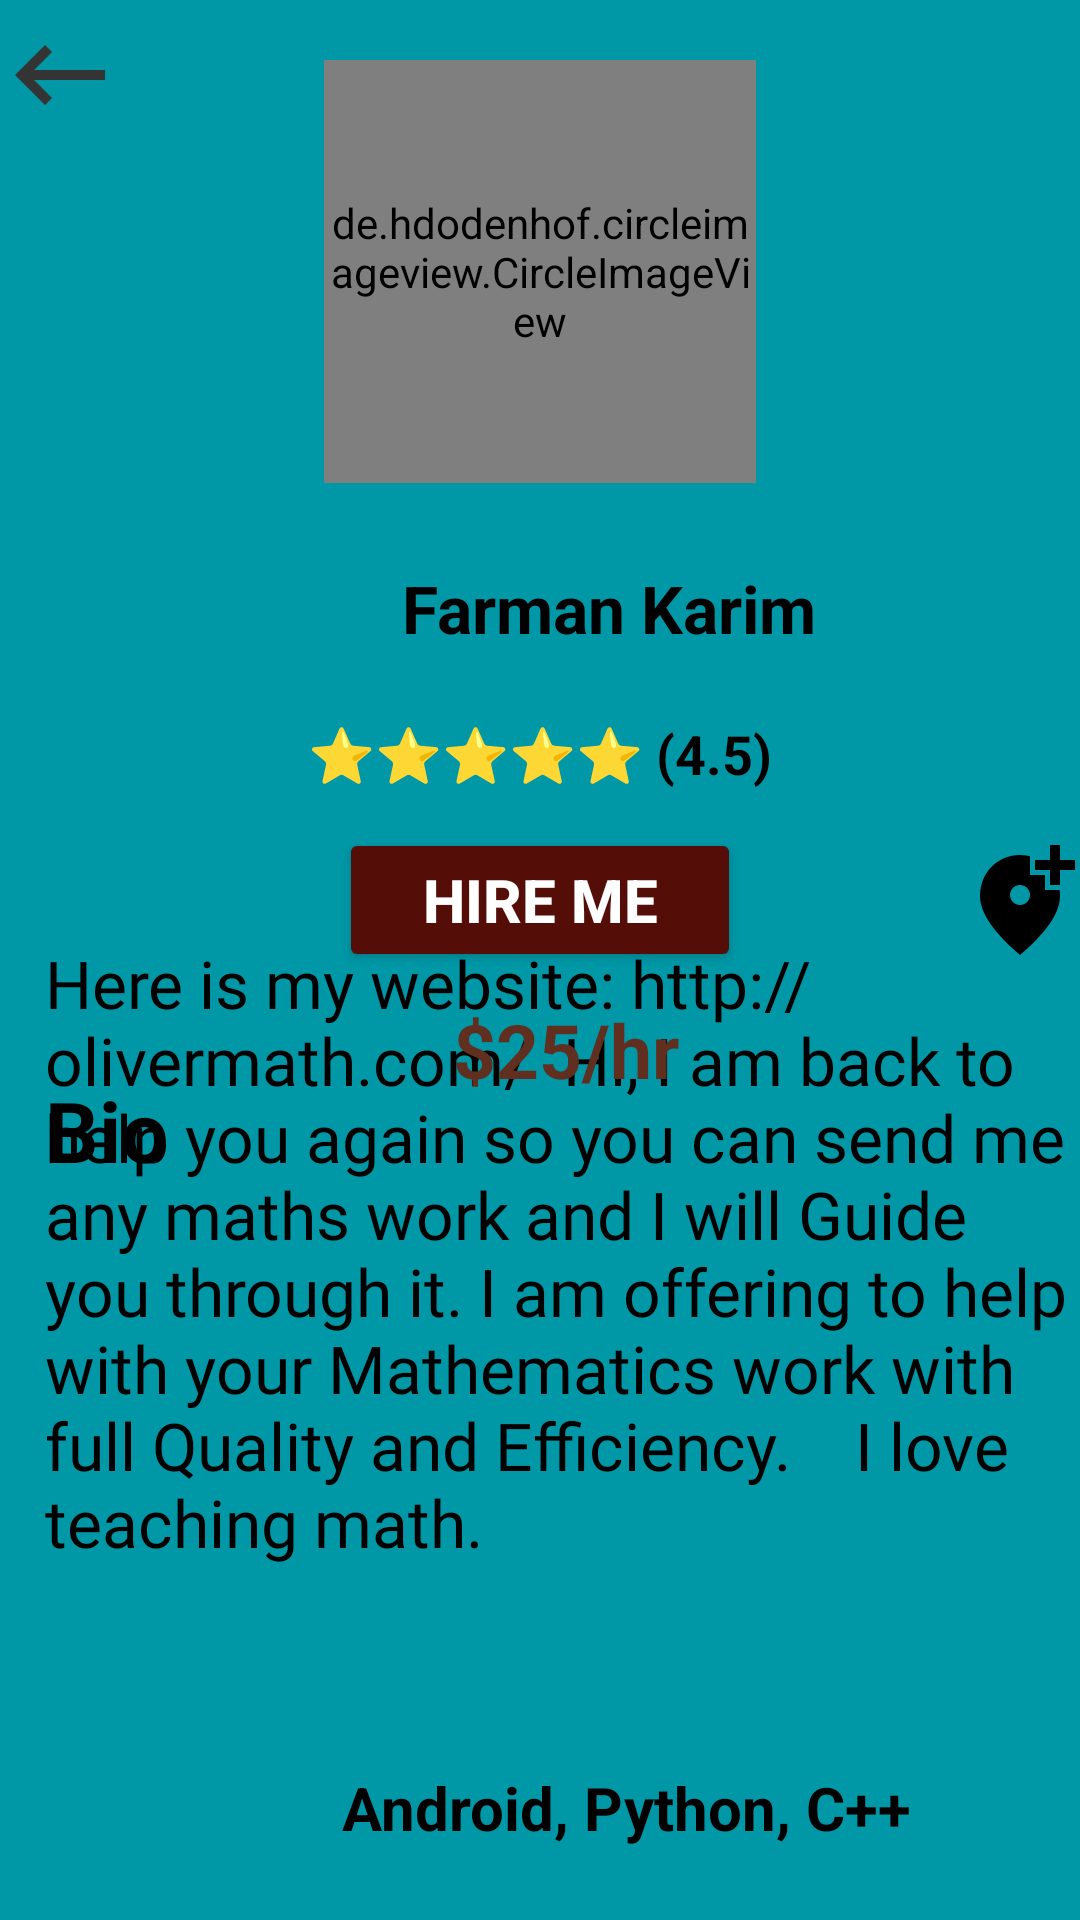

Icons on this 1080 x 1920 Android screen, each with its box as (x1, y1, x2, y2):
back: (15, 45, 105, 105)
location: (980, 845, 1075, 955)
